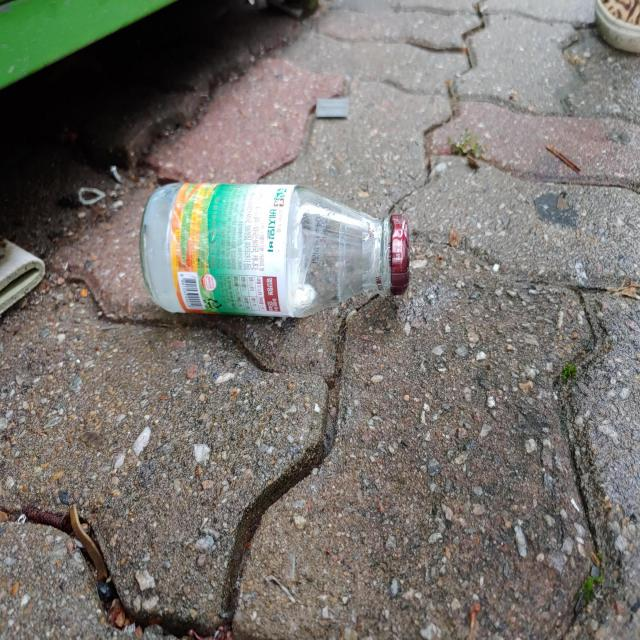glass: (141, 182, 410, 317)
